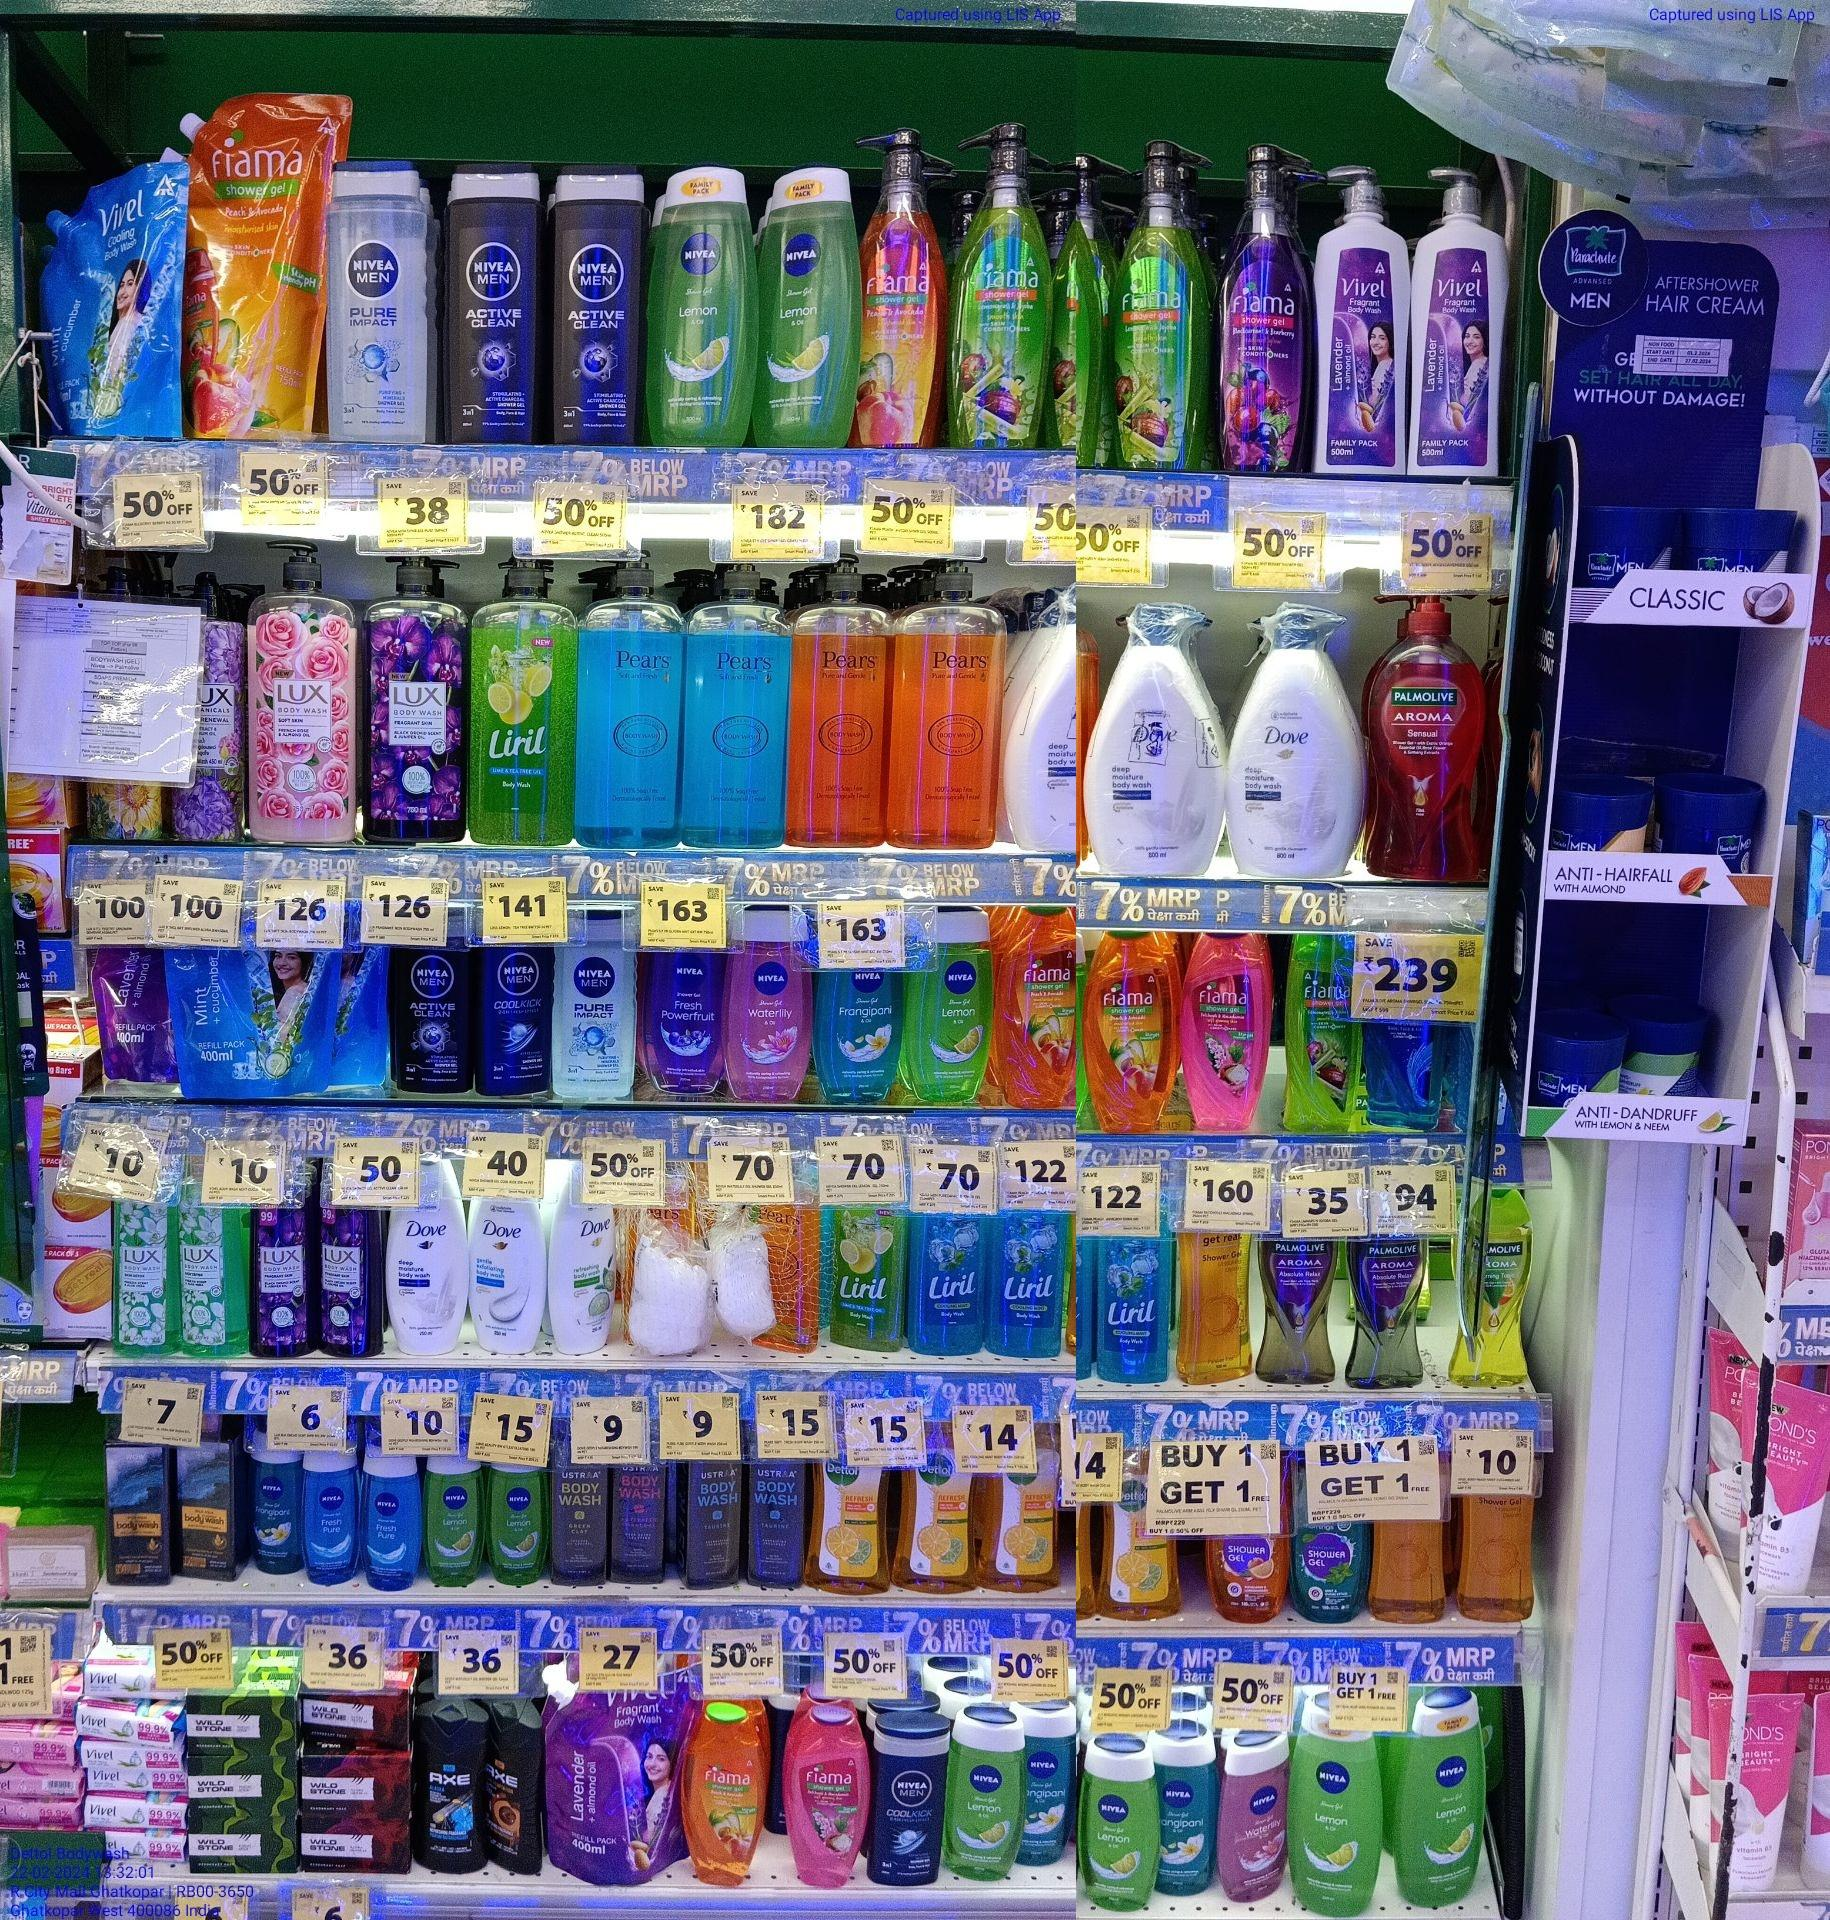Dettol_Bodywash_Refresh: (893, 1457, 978, 1598), (807, 1457, 891, 1594), (987, 1467, 1062, 1594)
Dove_Deep_Moisture_Body_Wash_250ML: (380, 1191, 469, 1353)
Dove_Gentle_Exfoliating_Body_Wash_250ML: (471, 1188, 545, 1351)
Dove_Refreshing_Body_Wash_250ML: (548, 1173, 613, 1354)
Fiama_Shower_Gel_Patchouli_and_Macadamia_250ML: (1179, 939, 1263, 1135), (783, 1707, 862, 1891)
Fiama_Shower_Gel_Peach_and_Avocado_250ML: (1083, 929, 1172, 1130), (680, 1707, 761, 1886), (1008, 909, 1074, 1106)
Get_Real_Shower_Gel_Moisturising_Glycerin_300ML: (1184, 1226, 1253, 1387)
Liril_Cooling_Mint_Body_Wash_250ML: (1095, 1234, 1172, 1389), (999, 1212, 1062, 1356)
Lux_Black_Orchid_Scent_and_Juniper_Oil_Body_Wash_245ML: (254, 1200, 315, 1359), (317, 1188, 370, 1359)
Lux_Body_Wash_Skin_Detox_Freesia_Scent_and_Alove_Vera_245ML: (113, 1193, 183, 1358), (182, 1203, 250, 1361)
Nivea_Shower_Gel_Frangipani_and_Oil_250ML: (819, 960, 894, 1107), (254, 1428, 300, 1577)
Nivea_Shower_Gel_Fresh_Powerfruit_250ML: (648, 945, 723, 1101)
Nivea_Shower_Gel_Lemon_and_Oil_250ML: (649, 159, 757, 446), (759, 161, 853, 447), (1289, 1702, 1379, 1920), (1398, 1697, 1486, 1917), (906, 905, 996, 1113), (1079, 1737, 1158, 1918), (944, 1711, 1020, 1881), (428, 1445, 487, 1586), (490, 1452, 547, 1584)
Nivea_Shower_Gel_Waterlily_and_Oil_250ML: (732, 912, 814, 1101), (1220, 1735, 1283, 1910)
Palmolive_Aroma_Relax_250ML: (1349, 1229, 1431, 1392), (1263, 1229, 1338, 1387)
